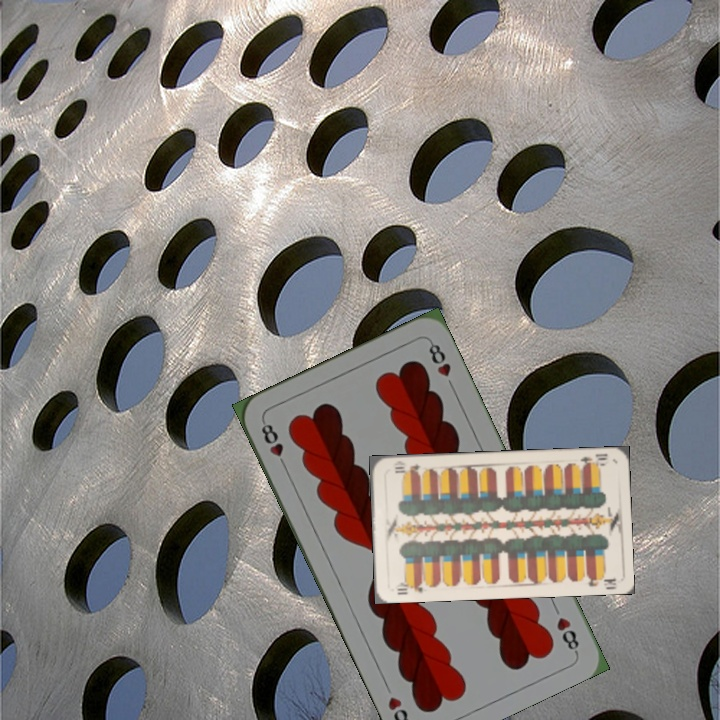E10: (576, 450, 610, 470), (391, 578, 425, 597)
H8: (257, 417, 290, 472), (552, 613, 582, 656)
